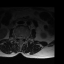CCS_normal: (20, 34, 22, 43)
LFS_normal: (24, 34, 26, 41)
LLS_normal: (22, 34, 24, 41)
RFS_normal: (16, 34, 18, 40)
RLS_normal: (18, 34, 20, 41)
